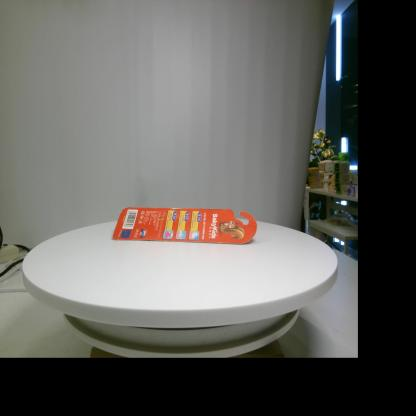Personal Hygiene: (112, 207, 257, 244)
